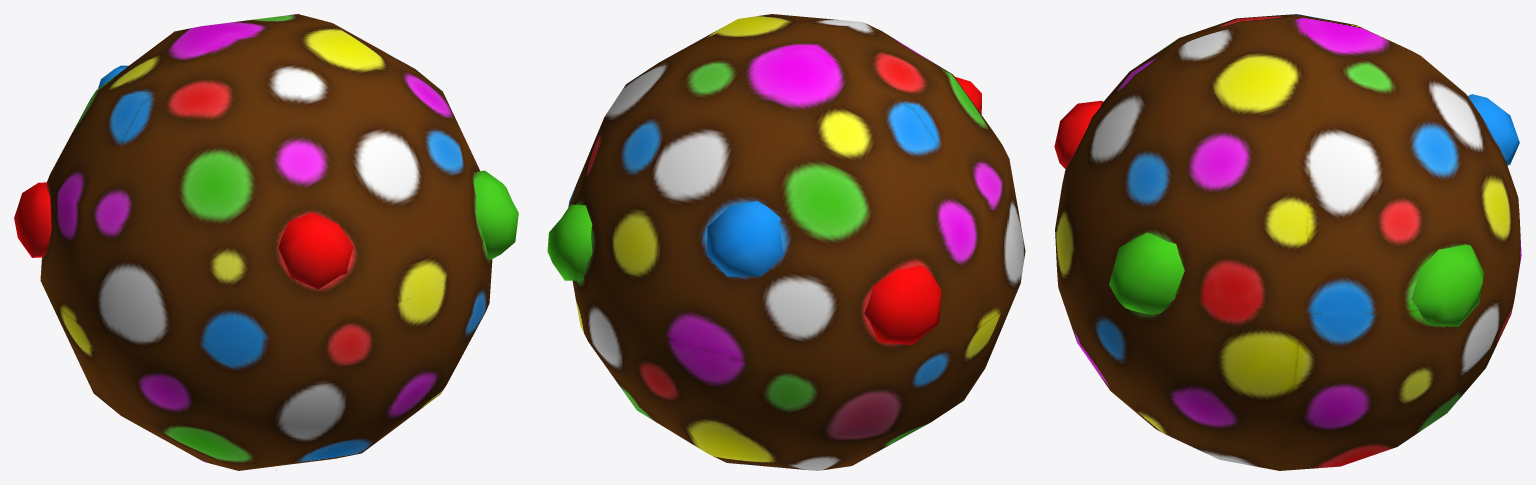
The model's file is ColorBomb.obj.
The picture shows the model from 3 angles, left to right: view 1: azimuth 30°, elevation 25°; view 2: azimuth 150°, elevation 25°; view 3: azimuth 270°, elevation 25°; orthographic projection.
Visible parts, largest first — view 1: Object0012; view 2: Object0012; view 3: Object0012.
Part boxes in pixels (x1,y1,x2,y2): Object0012: [14, 14, 518, 470]; Object0012: [547, 14, 1025, 470]; Object0012: [1054, 14, 1521, 470].
Bounding box in the file's own units: 4.39 × 4.4 × 4.42.
Materials: 2 (1 with a texture image).
